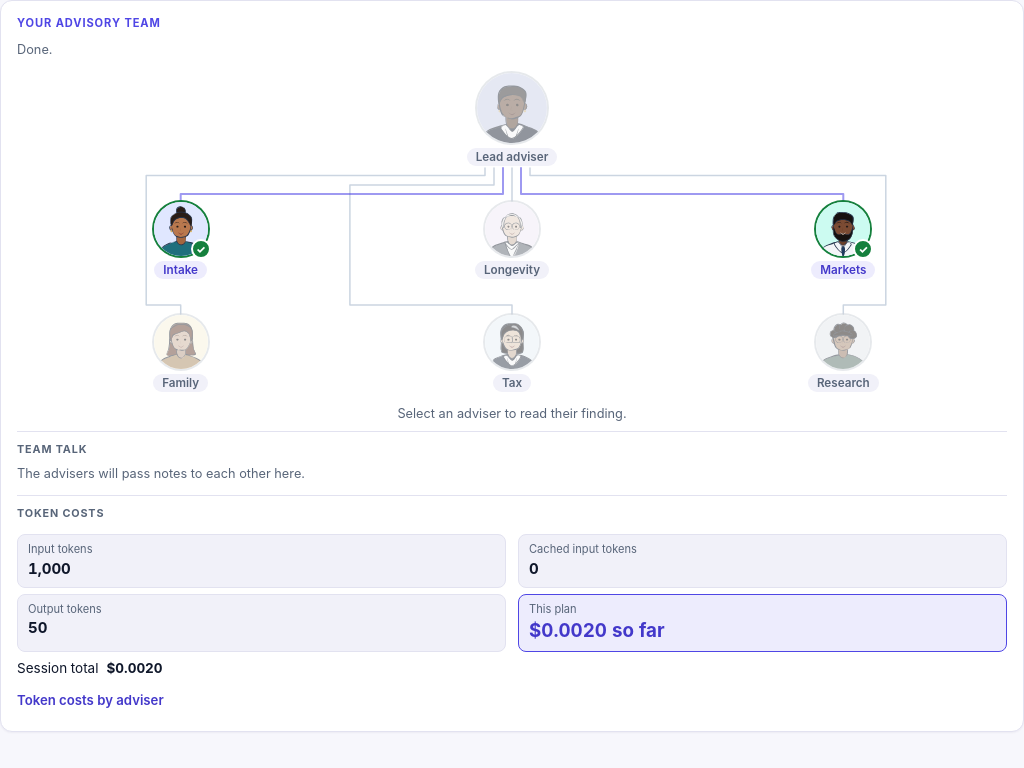
it: Adviser detail › shows no token counts or cost, and says something useful for Intake
This screenshot has width=1024, height=768.
What coordinates should you click on to do the following:
click the button "✓ Markets"
I would click on:
 (843, 240)
Its box is [680,196,1007,285].
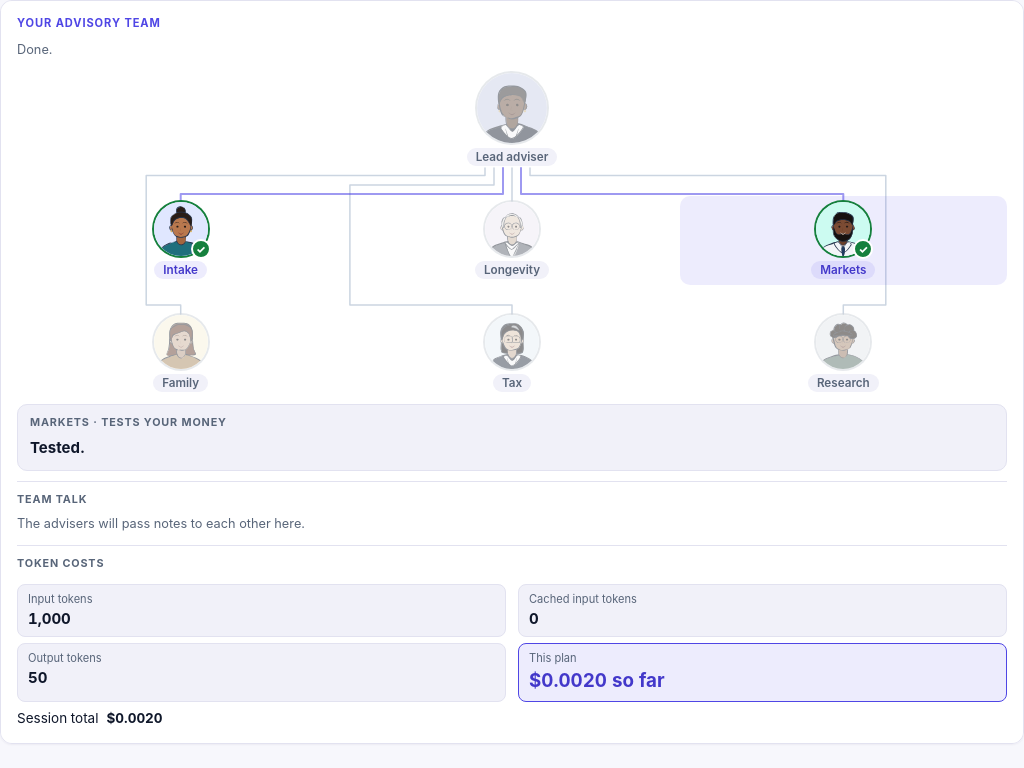
What coordinates should you click on to do the following:
click the button "✓ Intake"
I would click on:
 (181, 240)
Its box is [17,196,344,285].
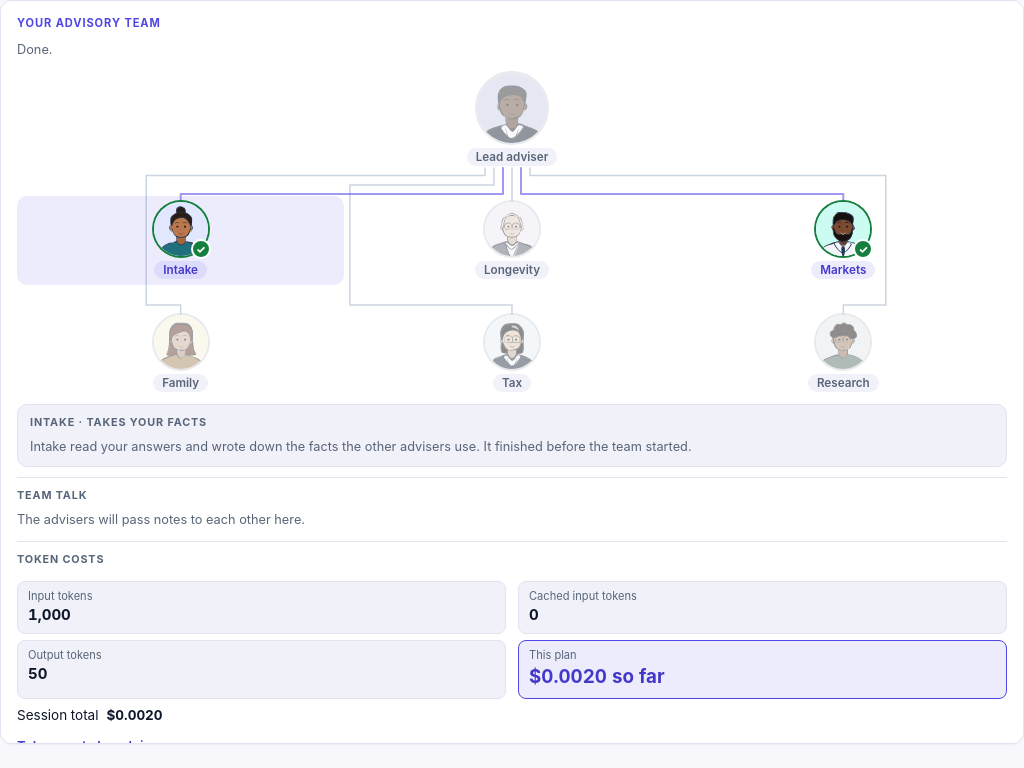
Now the element with class "detail-box" shows "wrote down the facts", box [30,439,692,454]
